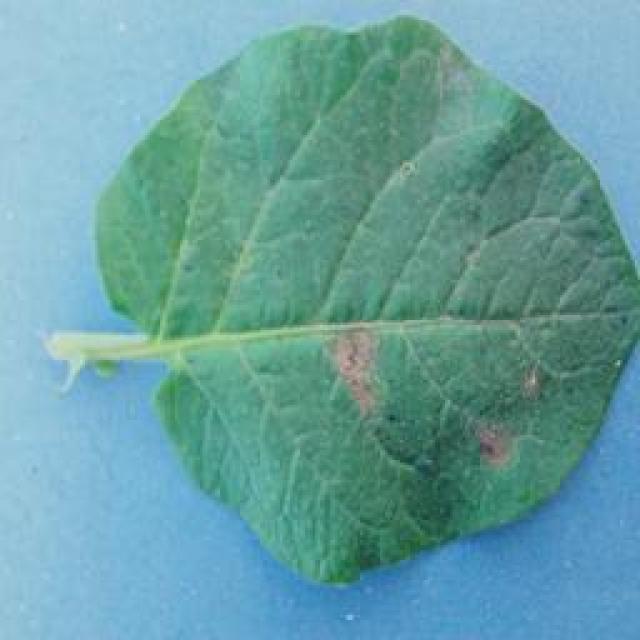Potato_Late_Blight: (77, 25, 634, 581)
